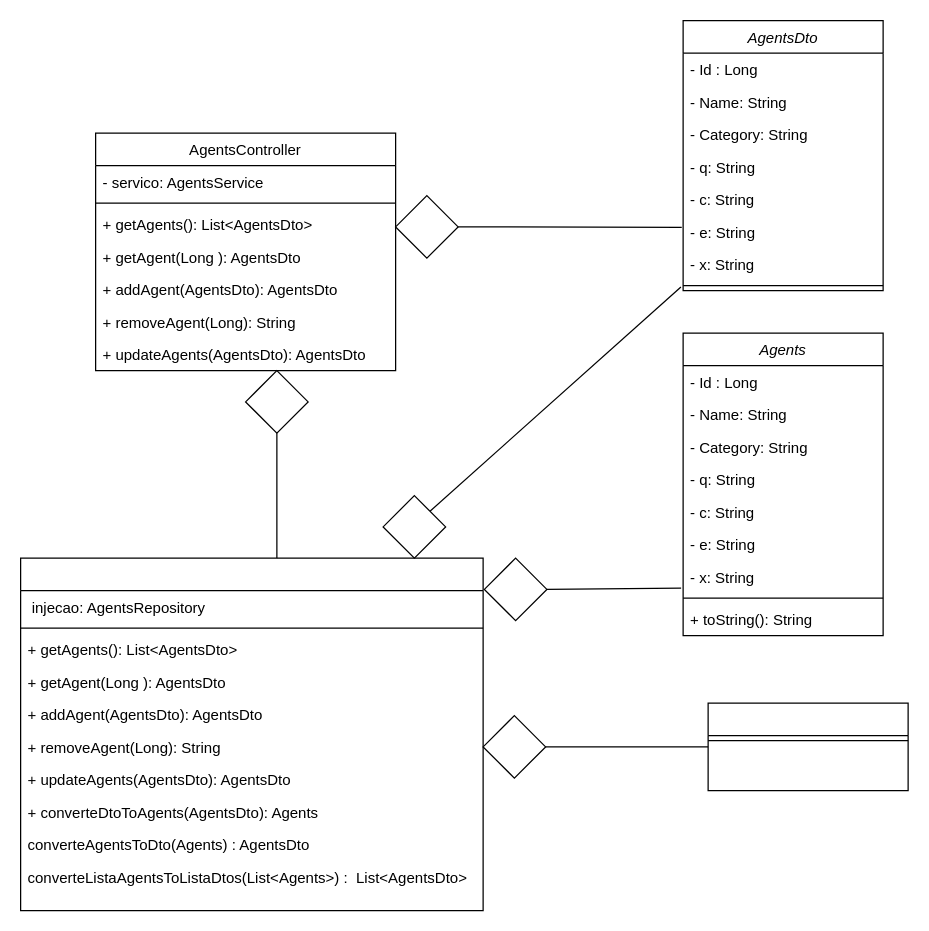
Some shapes in this 929 by 931 pixel diagram are drawn without their labels. The shapes that lost their labels are listed below. From the top down, each one's box as (x1, y1, x2, y2) in pixels, then its label:
(19, 557, 483, 911): AgentsService
(707, 702, 908, 791): AgentsRepository
